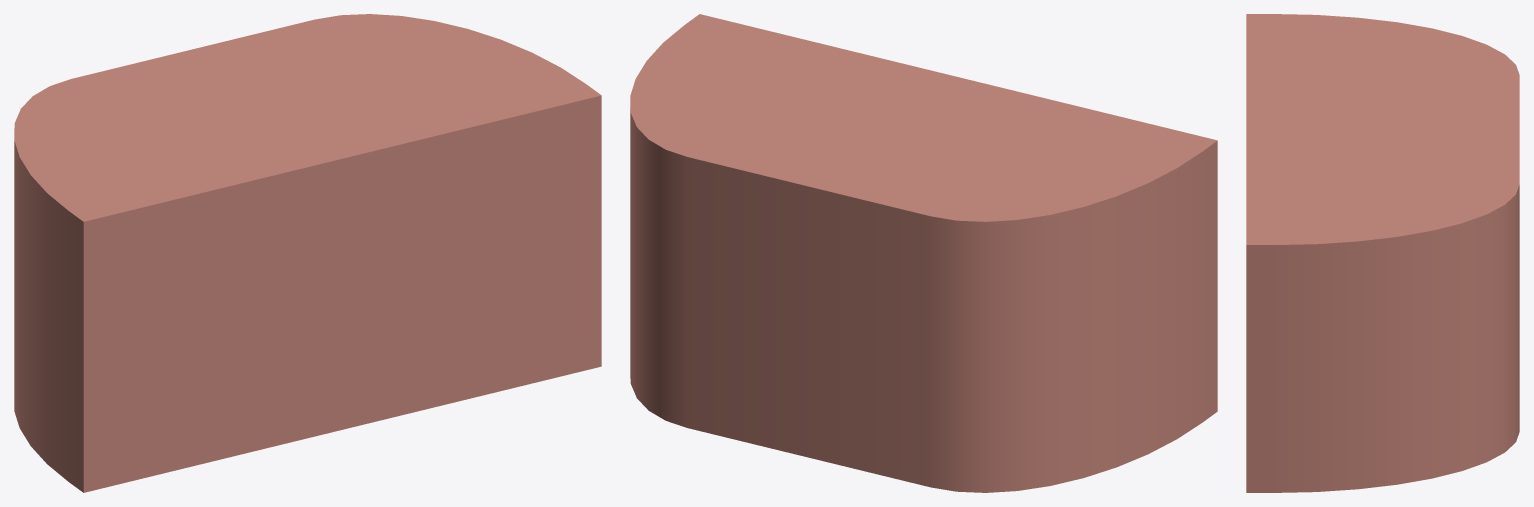
File: RoundedBlock01_20x10.fbx
3 renders of one model, left to right at view 1: azimuth 30°, elevation 25°; view 2: azimuth 150°, elevation 25°; view 3: azimuth 270°, elevation 25°, orthographic. The views are drawn at different scales.
Visible parts, largest first — view 1: RoundedBlock01.003; view 2: RoundedBlock01.003; view 3: RoundedBlock01.003.
Part boxes in pixels (x1,y1,x2,y2): RoundedBlock01.003: (14, 14, 601, 492); RoundedBlock01.003: (630, 14, 1217, 492); RoundedBlock01.003: (1246, 14, 1519, 492).
Bounding box in the file's own units: 2000 × 1000 × 1000.
